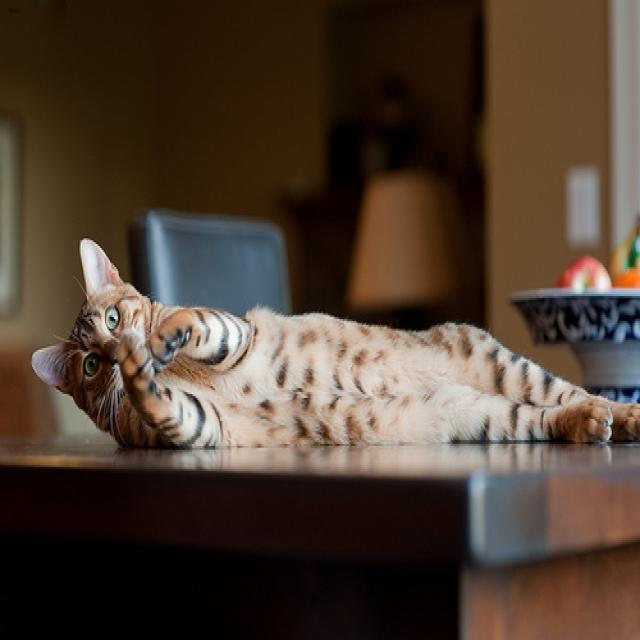Bengal: (29, 232, 157, 417)
